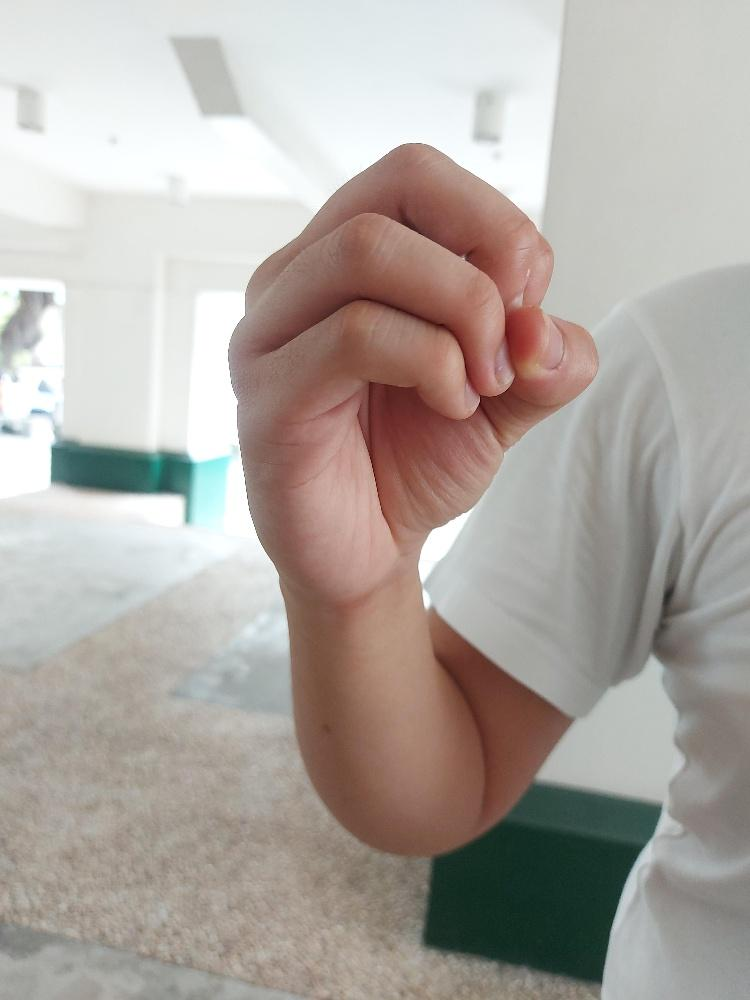o: (224, 137, 600, 602)
